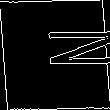N_W: (4, 34, 106, 76)
